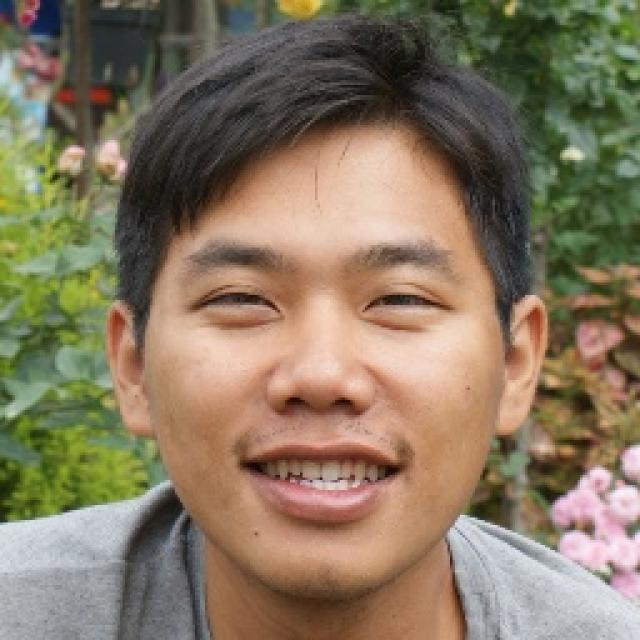earlobe: (492, 400, 526, 437), (122, 405, 156, 439)
eye: (193, 283, 283, 323), (362, 285, 448, 325)
nose: (271, 398, 376, 430)
wholeear: (495, 294, 548, 434), (105, 300, 156, 440)
